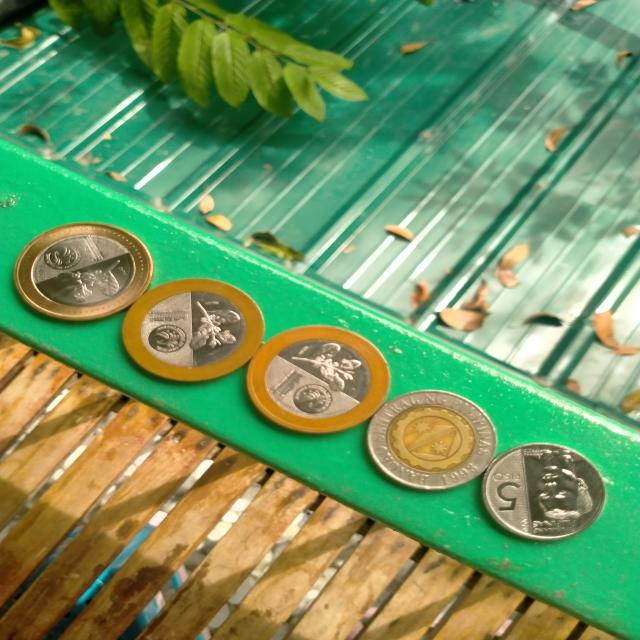10_New_Back: (363, 391, 503, 489)
5_New_Front: (486, 468, 530, 520)
